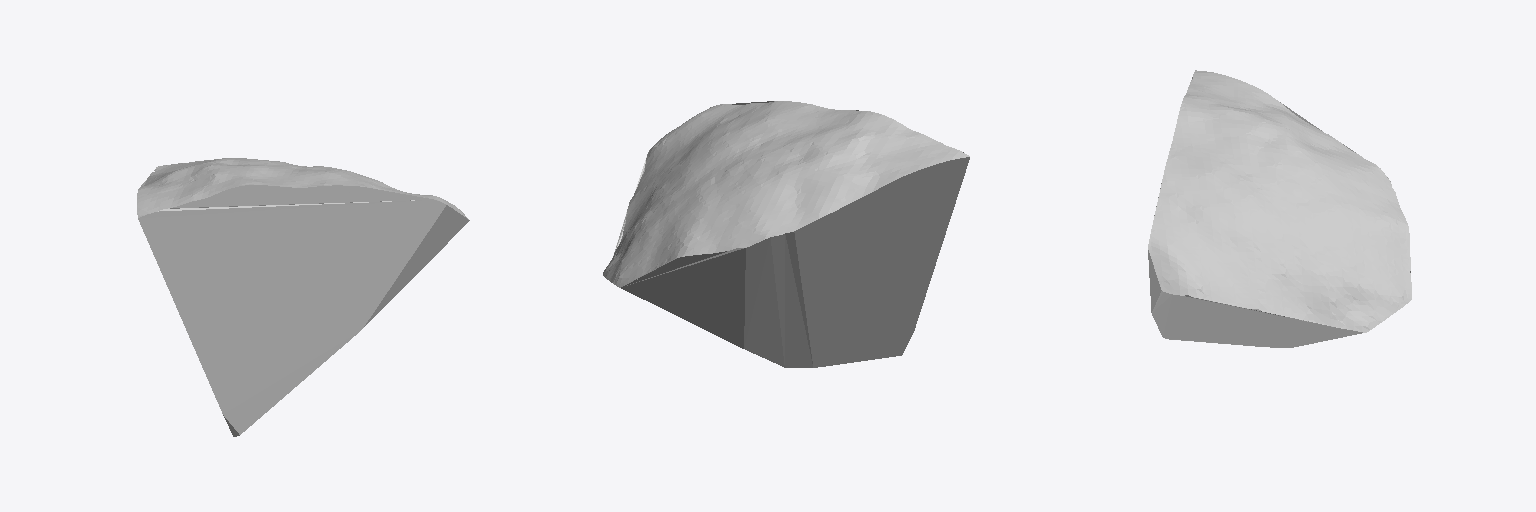
The model's file is low_cell_044.obj.
3 views of the same model, side by side, from view 1: azimuth 30°, elevation 25°; view 2: azimuth 150°, elevation 25°; view 3: azimuth 270°, elevation 25° (orthographic).
Parts seen in each view (by area): view 1: low_cell.044_low_cell.043; view 2: low_cell.044_low_cell.043; view 3: low_cell.044_low_cell.043.
Part boxes in pixels (x1,y1,x2,y2): low_cell.044_low_cell.043: (137,158,469,436); low_cell.044_low_cell.043: (603,101,969,367); low_cell.044_low_cell.043: (1148,70,1411,347).
Bounding box in the file's own units: 0.9246 × 0.67 × 0.66.